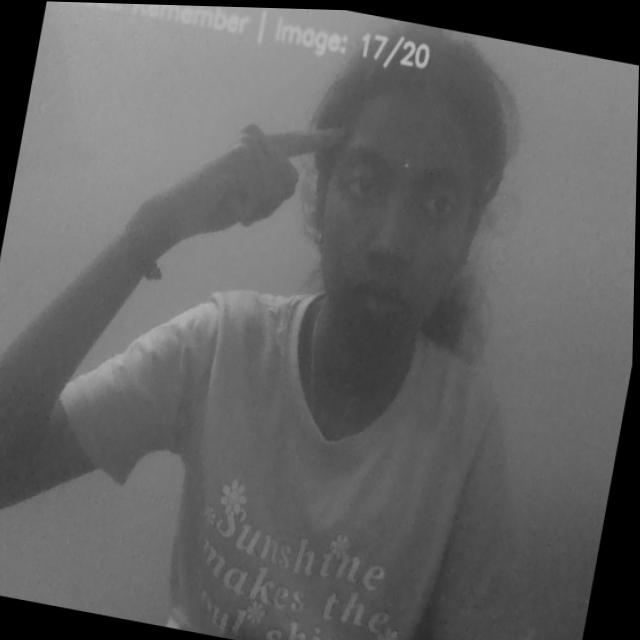Remember: (155, 92, 349, 265)
